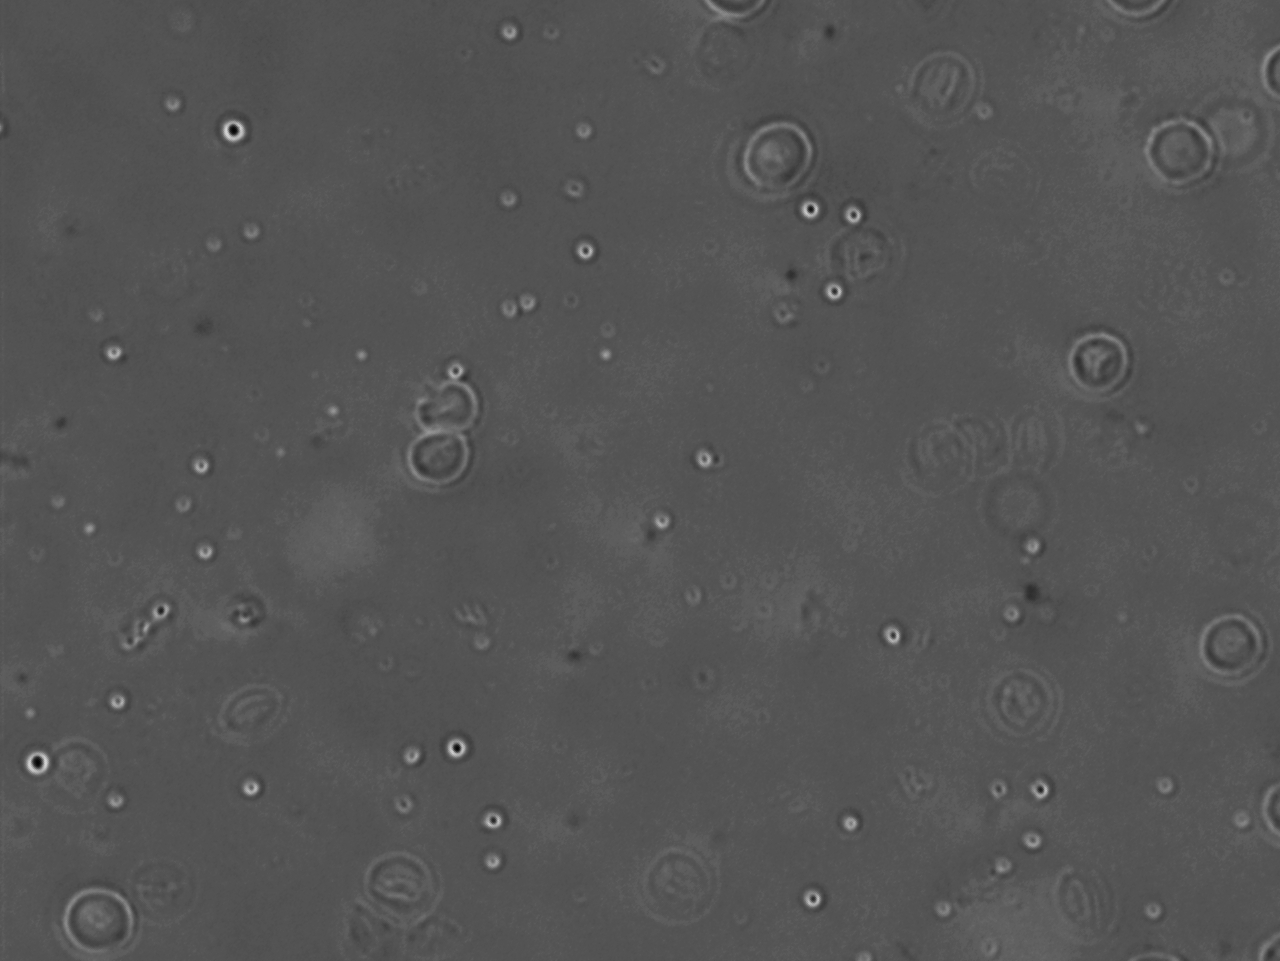depth:0: (382, 411, 481, 508), (732, 110, 825, 195), (51, 885, 149, 961), (1138, 116, 1225, 199), (1188, 605, 1277, 681), (1059, 321, 1140, 401)
